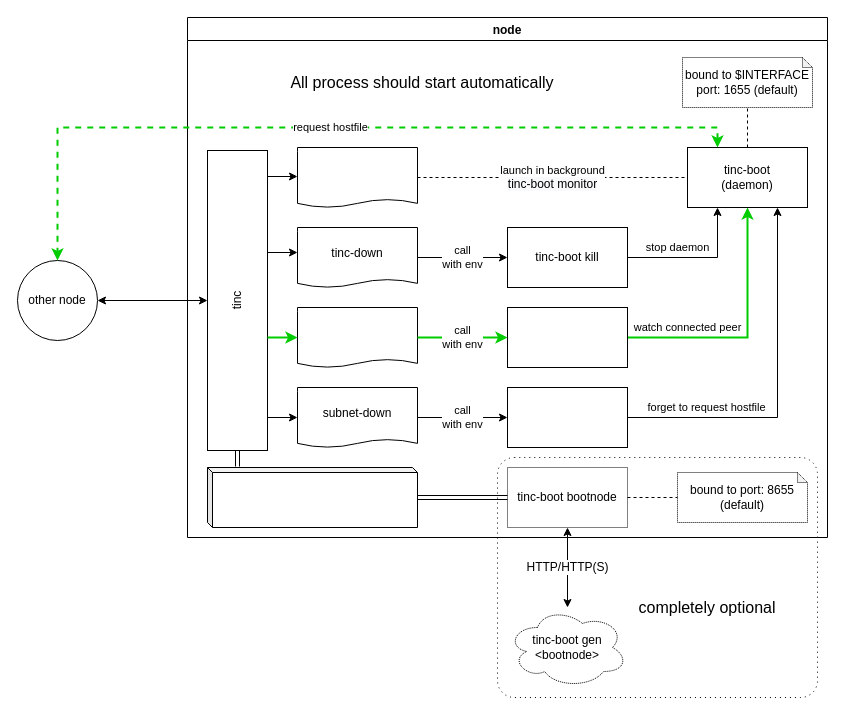
This 845x715 diagram has some shape labels left out. Here are the shapes that lost their labels. From the top down, the centre of each, then its label:
At (357,177): "tinc-up".
At (357,337): "subnet-up".
At (567,337): "tinc-boot watch".
At (567,417): "tinc-boot forget".
At (312,497): "configuration dir".
